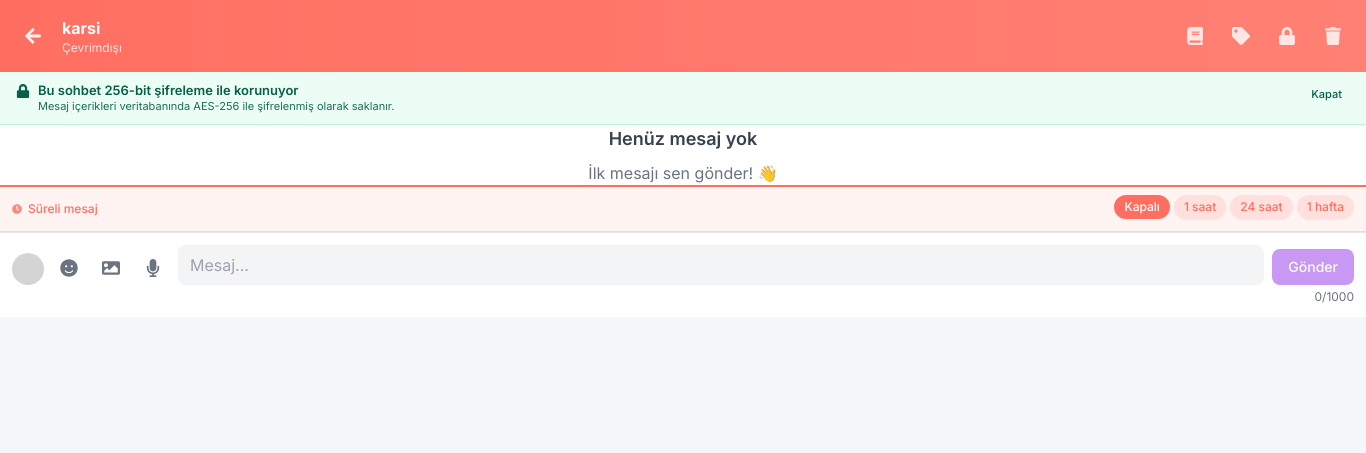
Test: ChatWindow gönderim: hata eşlemesi ve tekrar dene › ağ hatası: önce otomatik yeniden dener (aynı kimlik), sonra "Gönderilemedi — Tekrar dene" gösterir
Type "merhaba" into the text box at (721, 265), box [178, 245, 1264, 285]
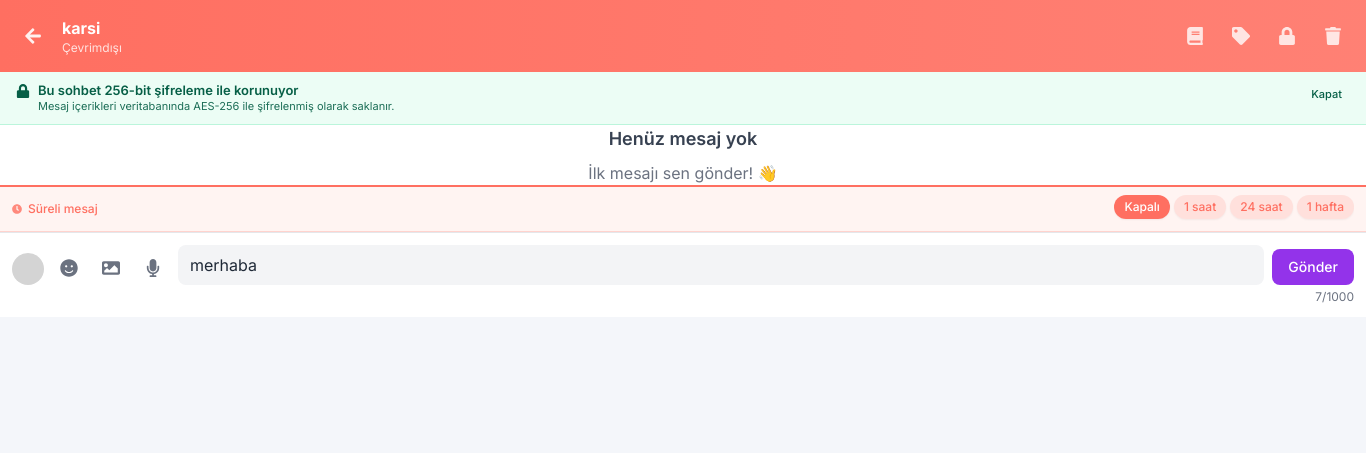
Press Enter in the text box, box [178, 245, 1264, 285]
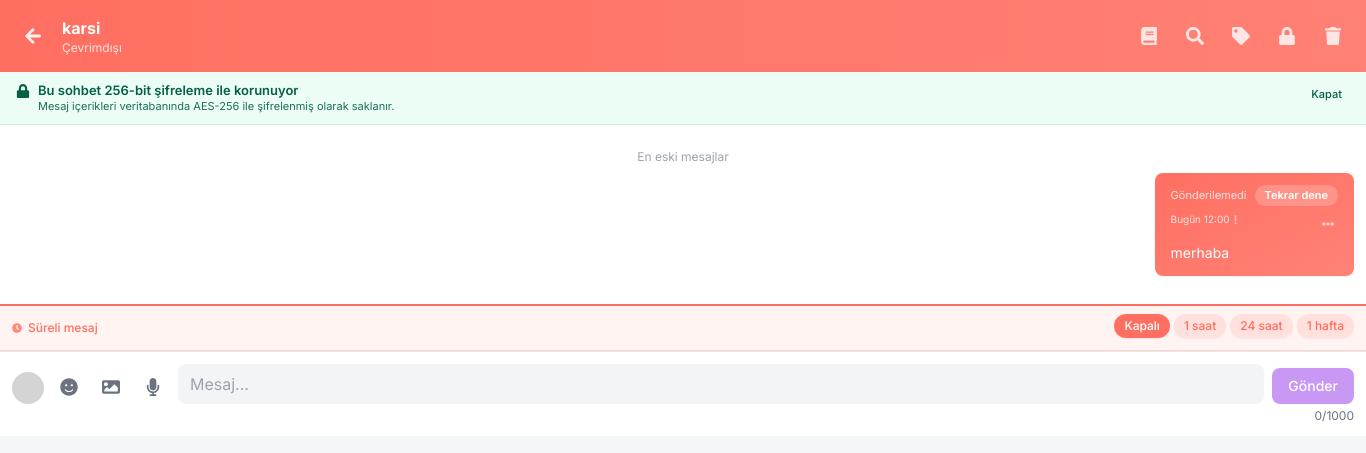
Result: the text "merhaba" is shown at [1171, 244, 1229, 260]
Result: the message "Gönderilemedi Tekrar dene" is shown at [1171, 185, 1338, 206]
Result: the button "Tekrar dene" is shown at [1254, 185, 1338, 206]
